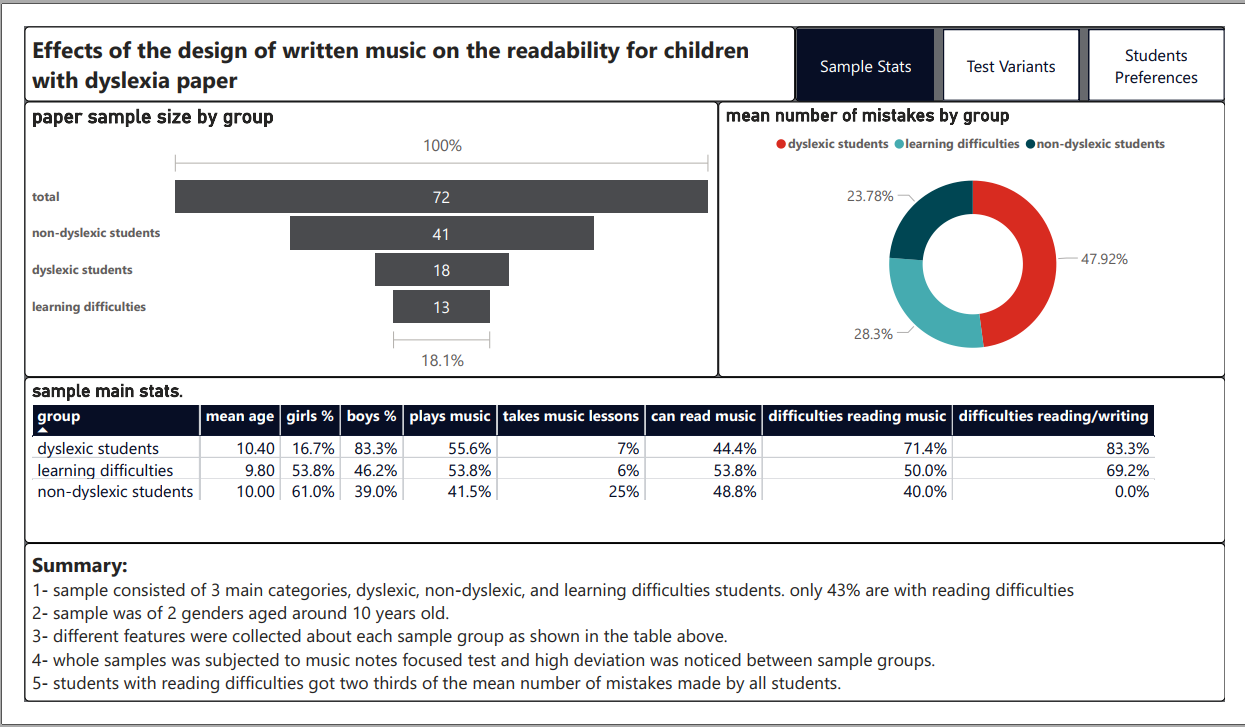

What the dashboard file says about the page in this screenshot:
{"tool":"powerbi","page":{"name":"Sample Stats","canvas":[1280,720],"ordinal":0},"visuals":[{"type":"funnel","title":"paper sample size by group","fields":{"Y":["Sum(Sample stats.sample size)"],"Category":["Sample stats.group"]},"box":[0,79.9,739.8,294.6],"z":0},{"type":"donutChart","fields":{"Category":["Sample stats.group"],"Y":["Sum(Sample stats.mean number of mistakes )"]},"box":[739.8,79.9,540.8,294.6],"z":1000},{"type":"tableEx","title":"sample main stats.","fields":{"Values":["Sample stats.group","Sample stats.mean age","Sum(Sample stats.girls %)","Sum(Sample stats.boys %)","Sample stats.plays music %","Sample stats.takes music private lessons %","Sample stats.can read written music %","Sample stats.difficulties reading music %","Sample stats.diffeculties with reading/writing %"]},"box":[0,374.5,1280.5,176.8],"z":2000},{"type":"textbox","box":[0,0,822.3,79.9],"z":3000},{"type":"pageNavigator","box":[822.3,0,458.3,79.9],"z":4000},{"type":"textbox","box":[0,551.2,1280.5,168.9],"z":5000}]}

Visuals, with their boxes on the page's 1280x720 design canvas (x1, y1, x2, y2). These are canvas units, not pixel positions in the 1245x727 screenshot, which may show the page scaled, cropped or inside an application window:
"paper sample size by group" funnel: (0, 80, 740, 374)
donutChart - Sample stats.group x Sum(Sample stats.mean number of mistakes ): (740, 80, 1281, 374)
"sample main stats." tableEx: (0, 374, 1280, 551)
textbox: (0, 0, 822, 80)
pageNavigator: (822, 0, 1281, 80)
textbox: (0, 551, 1280, 720)
